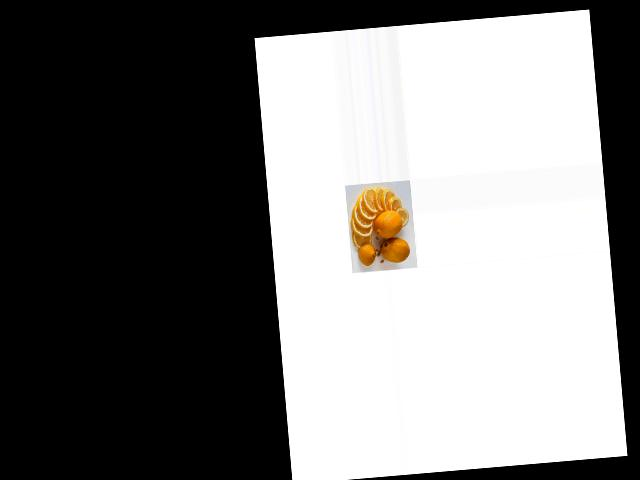lemon: (358, 244, 378, 265)
